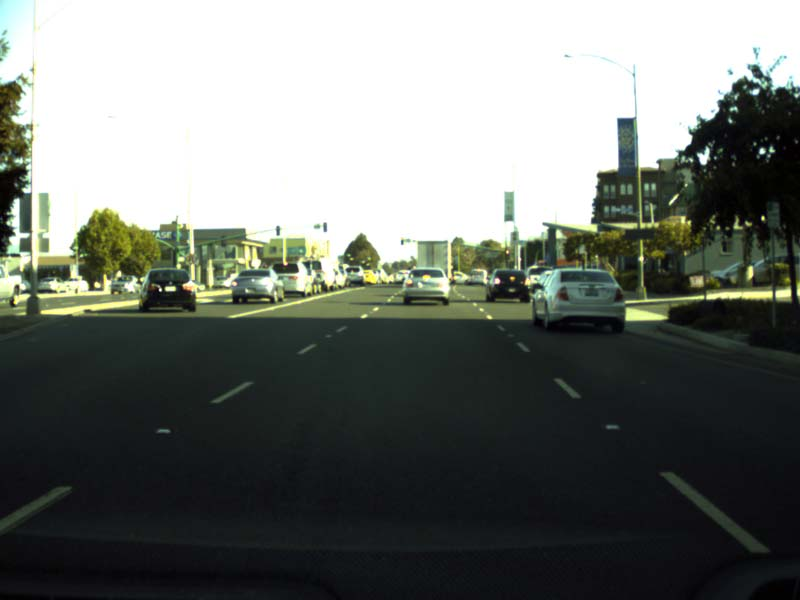Red: (505, 248, 509, 259), (400, 237, 404, 245)
